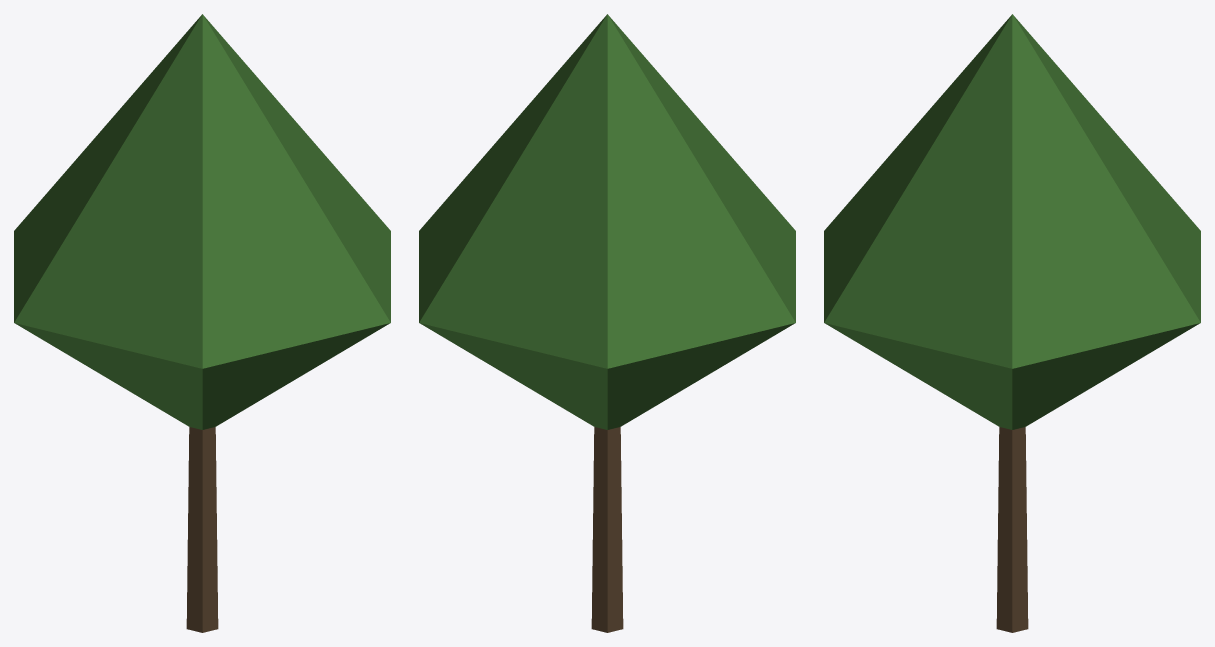
File: tree_round.glb
3 renders of one model, left to right at view 1: azimuth 30°, elevation 25°; view 2: azimuth 150°, elevation 25°; view 3: azimuth 270°, elevation 25°, orthographic.
Parts seen in each view (by area): view 1: tree_round; view 2: tree_round; view 3: tree_round.
Part boxes in pixels (<box>): tree_round: <box>14,14,390,632</box>; tree_round: <box>419,14,795,632</box>; tree_round: <box>824,14,1200,632</box>.
Bounding box in the file's own units: 6 × 9.3 × 5.2.
1 material, 1 textured.
